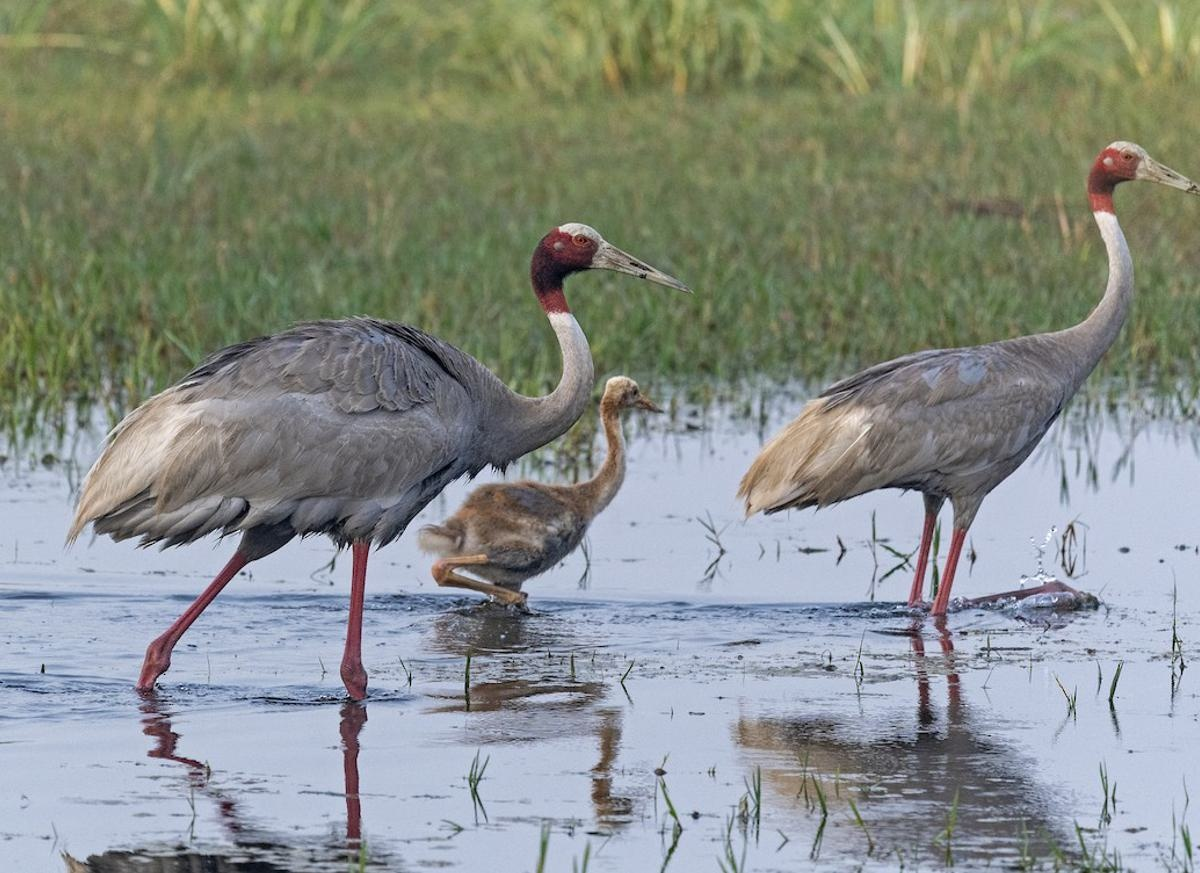crane: (58, 217, 695, 730), (744, 136, 1200, 627), (426, 373, 669, 621)
